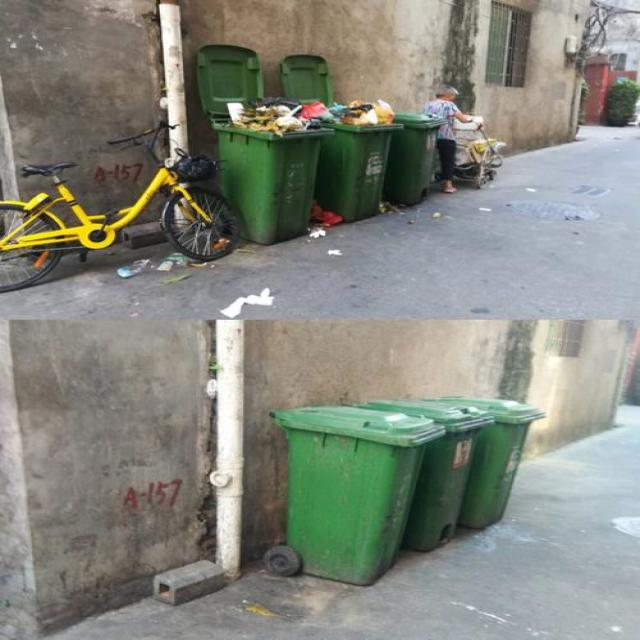garbage: (114, 250, 205, 282), (309, 200, 343, 255), (218, 287, 272, 317)
garbage_bin: (266, 404, 446, 584), (364, 400, 496, 550), (438, 397, 549, 528), (392, 112, 444, 205)
overflow: (210, 96, 330, 244), (318, 98, 400, 222)
